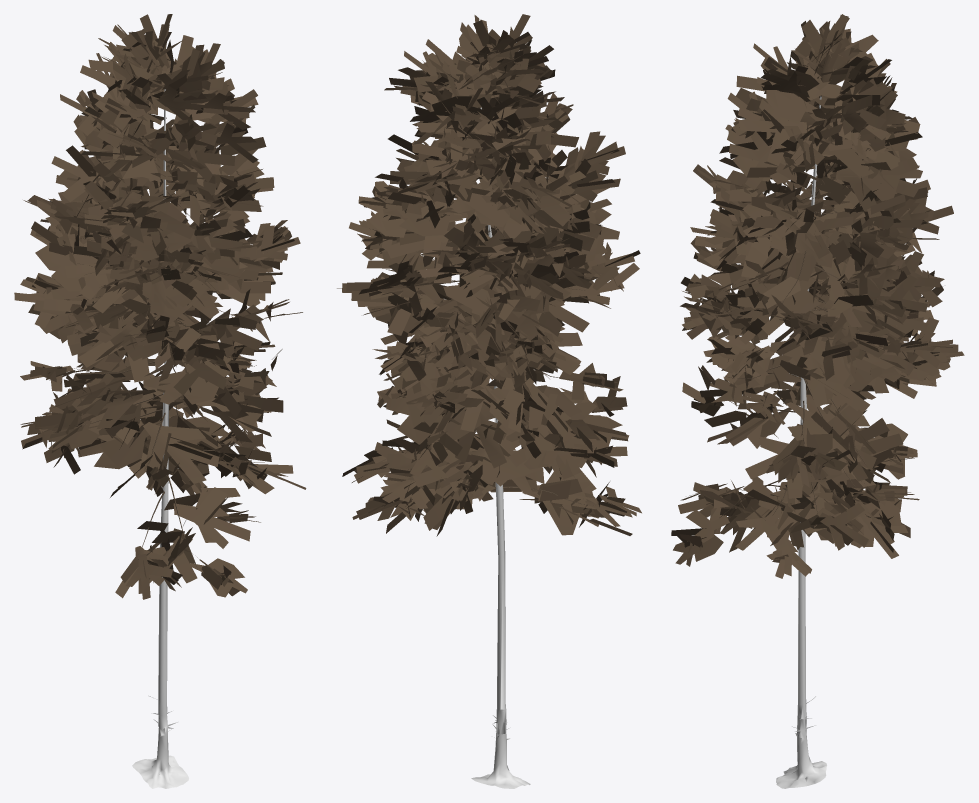
Rendered from fir_a_m.glb.
3 views of the same model, side by side, from view 1: azimuth 30°, elevation 25°; view 2: azimuth 150°, elevation 25°; view 3: azimuth 270°, elevation 25° (orthographic). The views are drawn at different scales.
Visible parts, largest first — view 1: fir_tree_01_a_LOD2.001; view 2: fir_tree_01_a_LOD2.001; view 3: fir_tree_01_a_LOD2.001.
Boxes of the visible parts, <box> form: fir_tree_01_a_LOD2.001: <box>14,14,306,788</box>; fir_tree_01_a_LOD2.001: <box>337,14,641,788</box>; fir_tree_01_a_LOD2.001: <box>671,14,964,788</box>.
Bounding box in the file's own units: 7.1 × 19.17 × 6.75.
